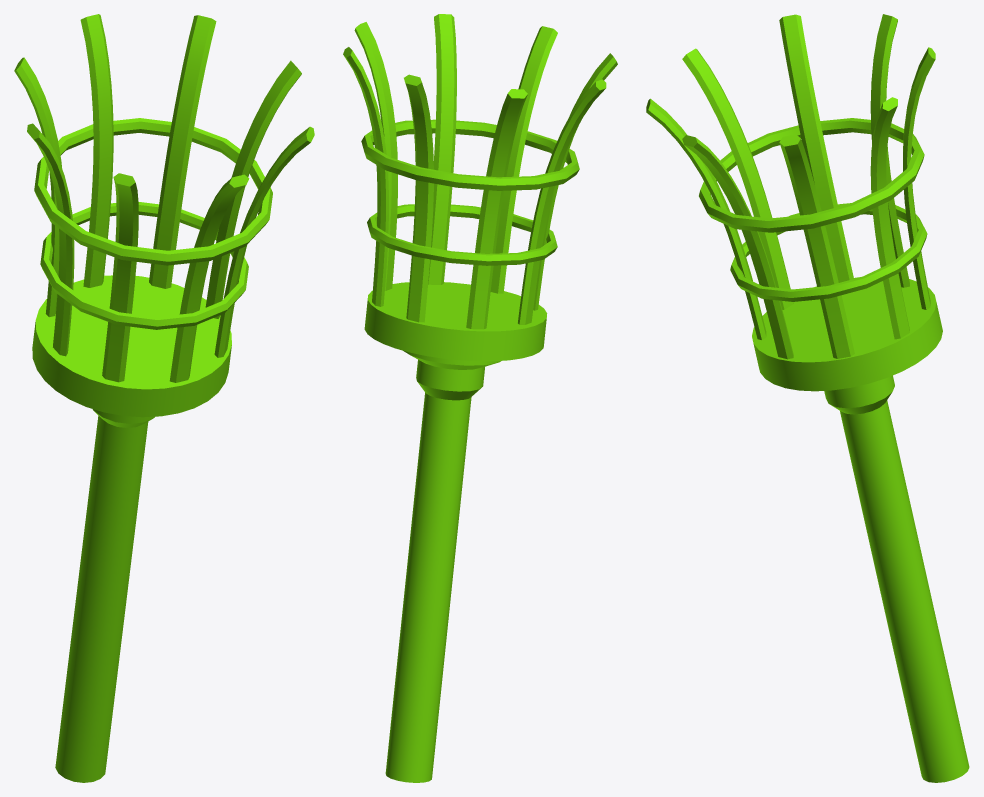
Rendered from torche.fbx.
The picture shows the model from 3 angles, left to right: view 1: azimuth 30°, elevation 25°; view 2: azimuth 150°, elevation 25°; view 3: azimuth 270°, elevation 25°; orthographic projection. The views are drawn at different scales.
Parts seen in each view (by area): view 1: Cylinder.003; view 2: Cylinder.003; view 3: Cylinder.003.
Part boxes in pixels (left/top/right/bottom): Cylinder.003: left=14, top=14, right=314, bottom=782; Cylinder.003: left=343, top=14, right=617, bottom=782; Cylinder.003: left=646, top=14, right=969, bottom=782.
Bounding box in the file's own units: 0.7758 × 0.7085 × 1.93.
